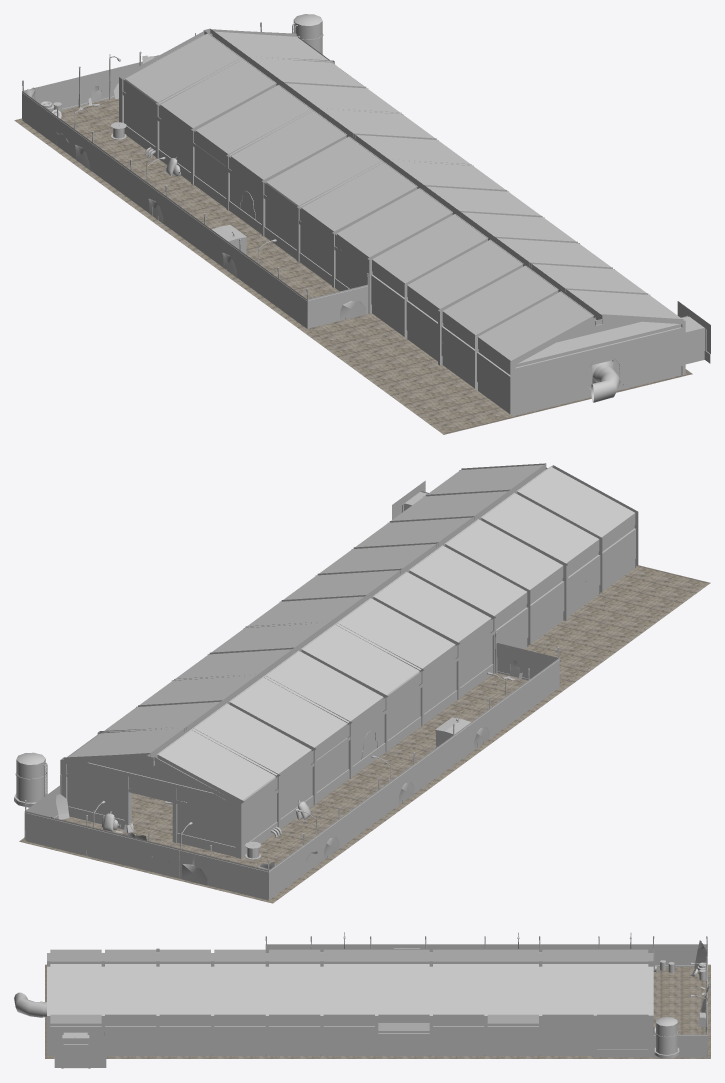
File: map Hanger.fbx
The picture shows the model from 3 angles, top to bottom: view 1: azimuth 30°, elevation 25°; view 2: azimuth 150°, elevation 25°; view 3: azimuth 270°, elevation 25°; orthographic projection. The views are drawn at different scales.
Visible parts, largest first — view 1: Plane, Plane.001; view 2: Plane; view 3: Plane, Plane.001.
Part boxes in pixels (x1=…): Plane: x1=14, y1=14, x2=710, y2=434; Plane.001: x1=125, y1=79, x2=679, y2=363; Plane: x1=14, y1=463, x2=710, y2=903; Plane: x1=14, y1=932, x2=710, y2=1068; Plane.001: x1=50, y1=952, x2=541, y2=1030.
Bounding box in the file's own units: 3050 × 841 × 8477.
